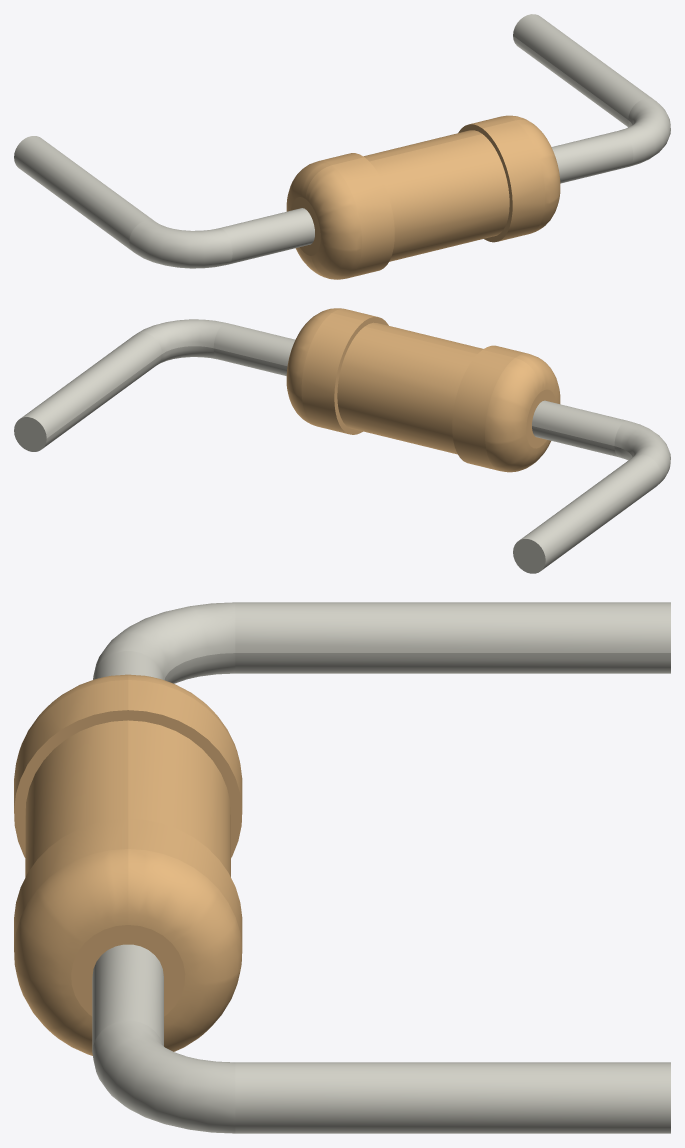
Rendered from R_Axial_DIN0204_L3.6mm_D1.6mm_P7.62mm_Horizontal.glb.
The picture shows the model from 3 angles, top to bottom: view 1: azimuth 30°, elevation 25°; view 2: azimuth 150°, elevation 25°; view 3: azimuth 270°, elevation 25°; orthographic projection. The views are drawn at different scales.
Parts seen in each view (by area): view 1: R_Axial_DIN0204_L36mm_D16mm_P762mm_Horizontal; view 2: R_Axial_DIN0204_L36mm_D16mm_P762mm_Horizontal; view 3: R_Axial_DIN0204_L36mm_D16mm_P762mm_Horizontal.
Boxes of the visible parts, box(x1,y1,x2,y2) form: R_Axial_DIN0204_L36mm_D16mm_P762mm_Horizontal: box(14, 14, 670, 279); R_Axial_DIN0204_L36mm_D16mm_P762mm_Horizontal: box(14, 308, 670, 573); R_Axial_DIN0204_L36mm_D16mm_P762mm_Horizontal: box(14, 602, 670, 1133).
Size of the model in its own units: 8.12 by 1.6 by 4.6.
